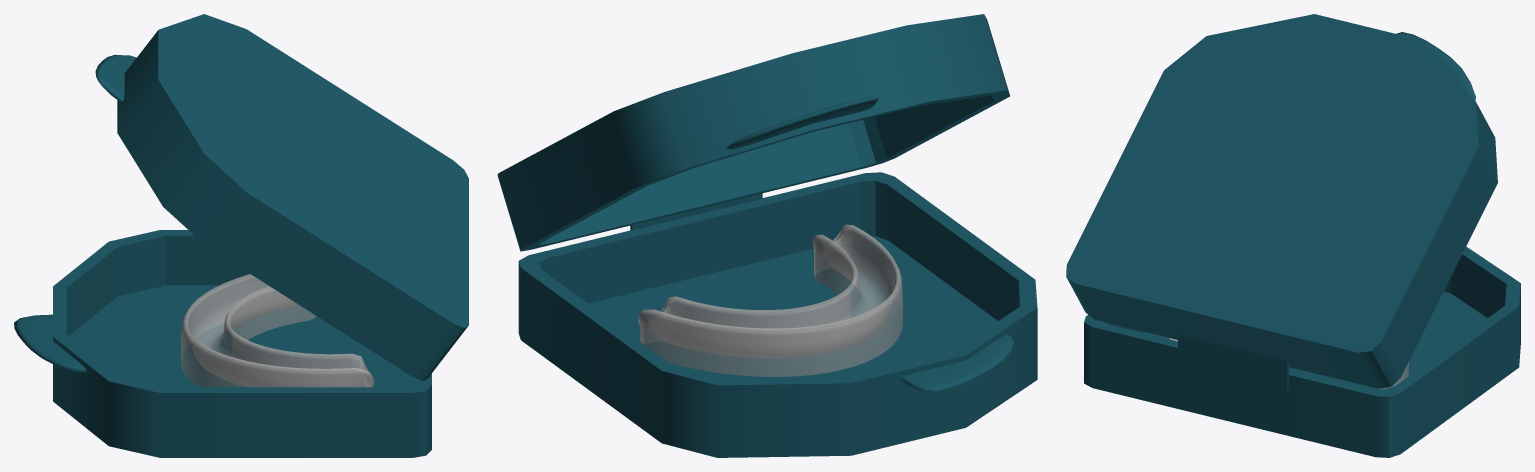
File: dental.fbx
3 views of the same model, side by side, from view 1: azimuth 30°, elevation 25°; view 2: azimuth 150°, elevation 25°; view 3: azimuth 270°, elevation 25° (orthographic). The views are drawn at different scales.
Parts seen in each view (by area): view 1: dental_combined; view 2: dental_combined; view 3: dental_combined.
Part boxes in pixels (x1,y1,x2,y2): dental_combined: (14, 14, 468, 457); dental_combined: (497, 14, 1037, 457); dental_combined: (1066, 14, 1520, 457).
Size of the model in its own units: 0.9421 by 0.6609 by 0.9.
